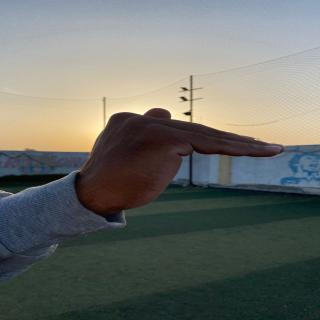KHAA: (66, 106, 297, 221)
